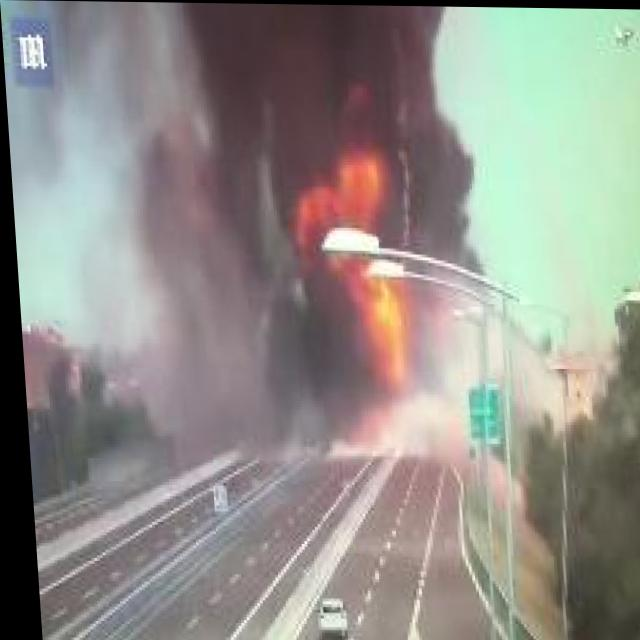fire: (283, 126, 430, 408)
